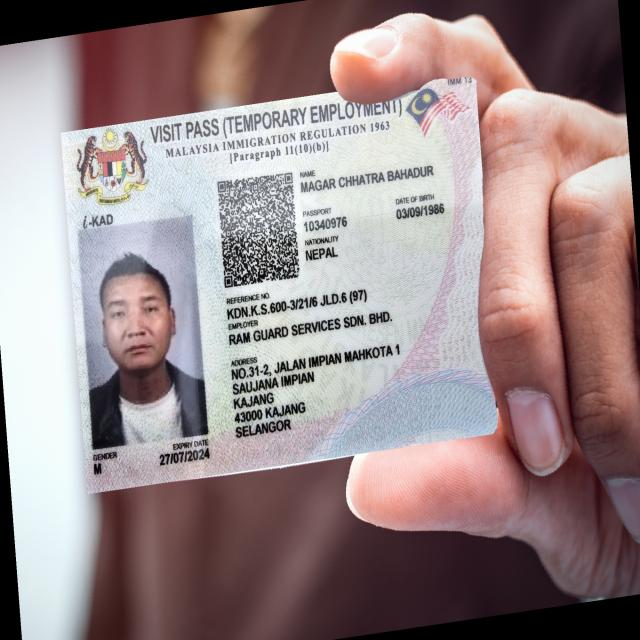ikad-temp: (59, 76, 498, 493)
